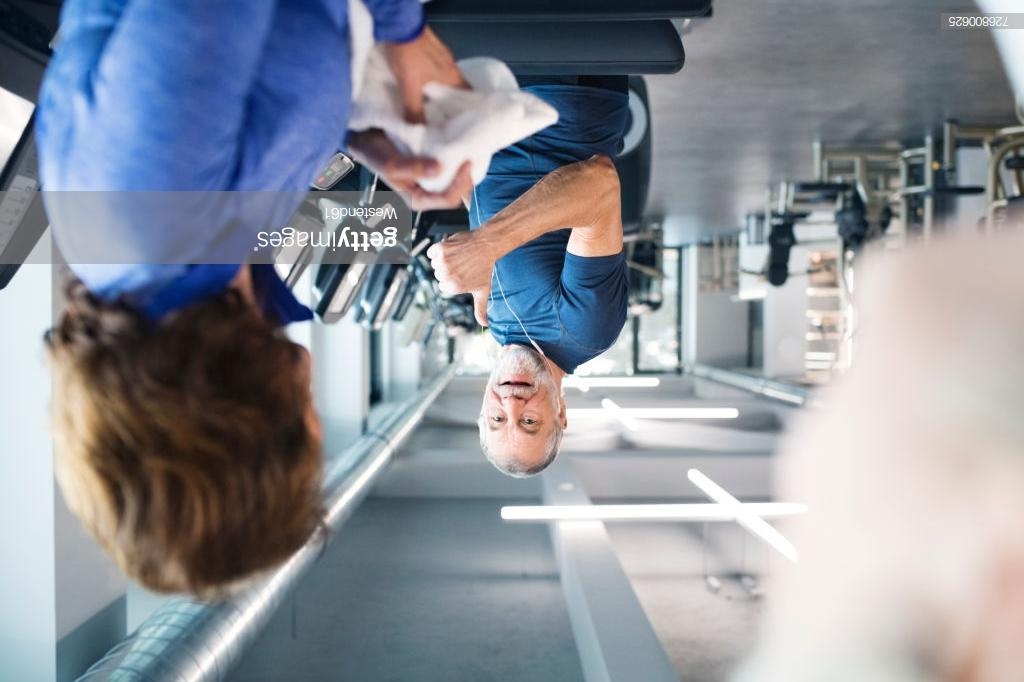thumbsdown: (427, 244, 490, 327)
